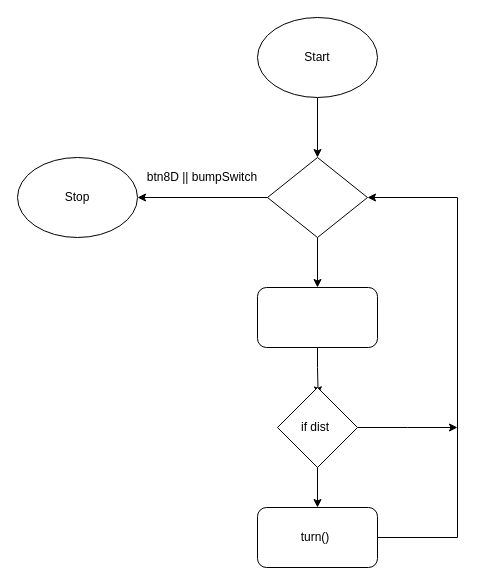
Some shapes in this 483 by 585 pixel diagram are drawn without their labels. Here are the shapes that lost their labels. From the top down, the centre of each, then its label:
pixel 317 197: if lightSensor
pixel 317 317: drive()
